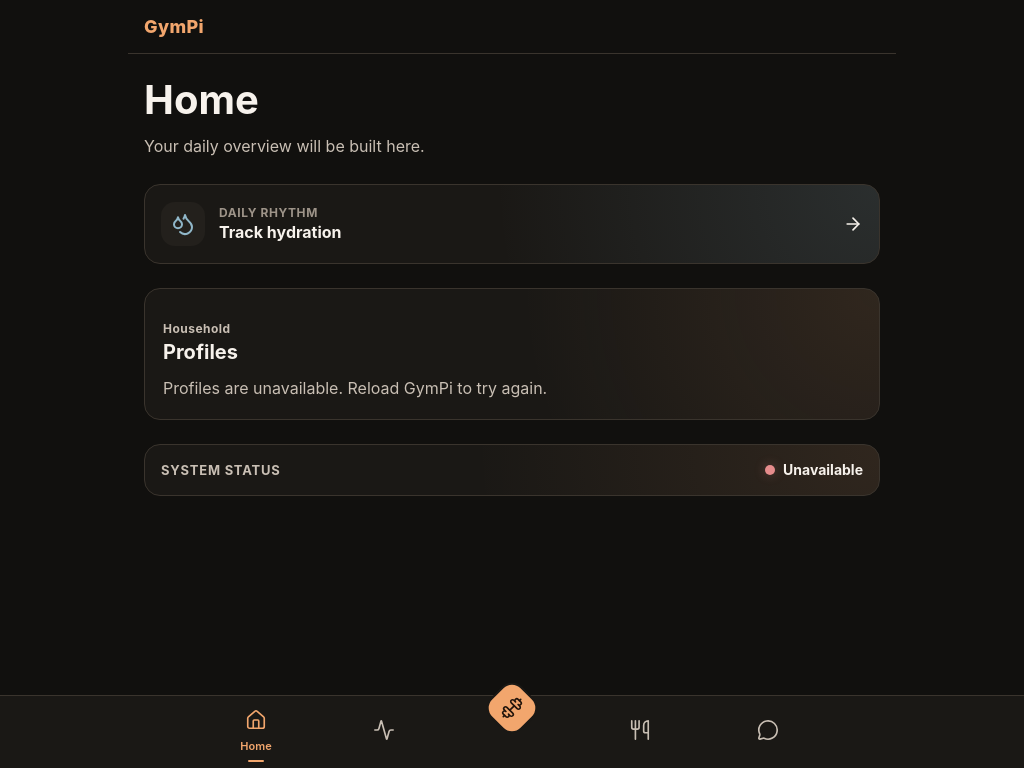
App › navigates to another primary destination
The width and height of the screenshot is (1024, 768).
Click the link named "Workouts": [512, 708] box [501, 697, 523, 719]
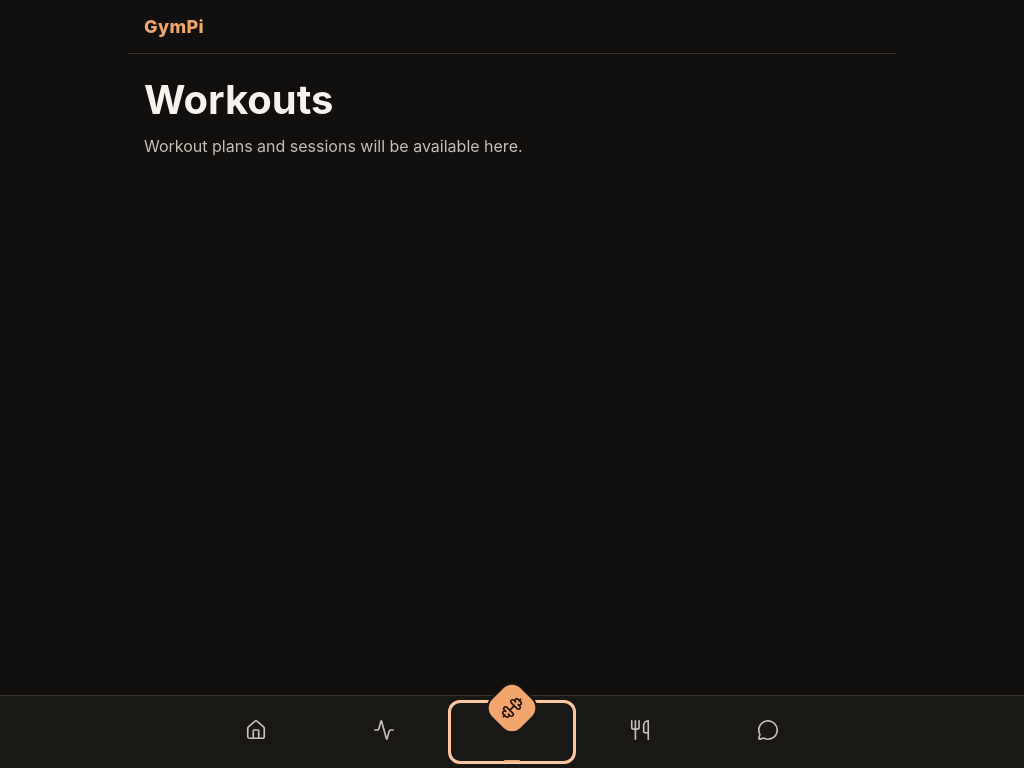
Result: the heading "Workouts" is shown at [144, 75, 334, 124]
